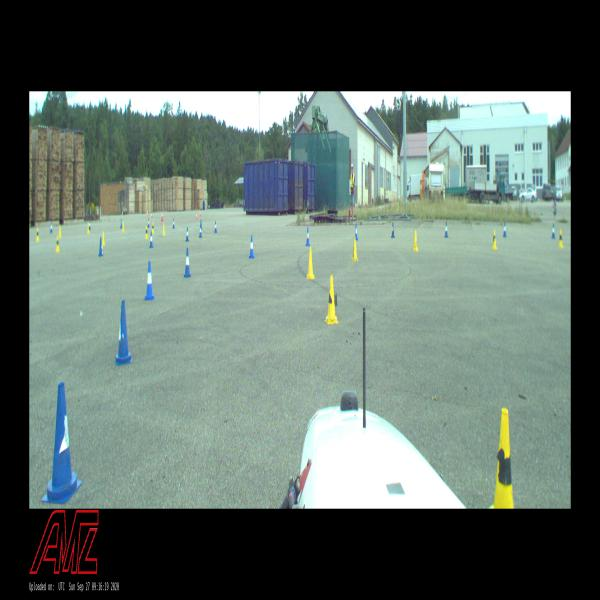blue_cone: (42, 382, 82, 502), (116, 301, 131, 365), (144, 262, 155, 300), (184, 248, 191, 276), (249, 236, 254, 258), (98, 237, 103, 256), (305, 227, 310, 245), (149, 228, 153, 249), (354, 222, 358, 240), (444, 221, 448, 238), (551, 223, 555, 239), (391, 222, 395, 238), (502, 222, 506, 237), (119, 218, 123, 228), (186, 228, 189, 241), (214, 221, 217, 232), (200, 224, 202, 238), (89, 219, 91, 230), (200, 219, 202, 230), (50, 222, 52, 232), (173, 218, 174, 228), (148, 218, 149, 227)
orange_cone: (161, 212, 163, 221), (199, 210, 201, 217), (151, 212, 153, 218), (196, 212, 197, 219)
yellow_cone: (486, 408, 514, 509), (324, 275, 338, 323), (307, 247, 314, 279), (352, 237, 358, 261), (413, 230, 418, 252), (492, 230, 497, 249), (558, 228, 562, 247), (55, 236, 60, 251), (102, 230, 105, 245), (151, 222, 155, 233), (145, 225, 148, 238), (36, 228, 39, 241), (122, 219, 125, 232), (87, 222, 90, 233), (163, 224, 165, 235), (59, 226, 61, 237)
